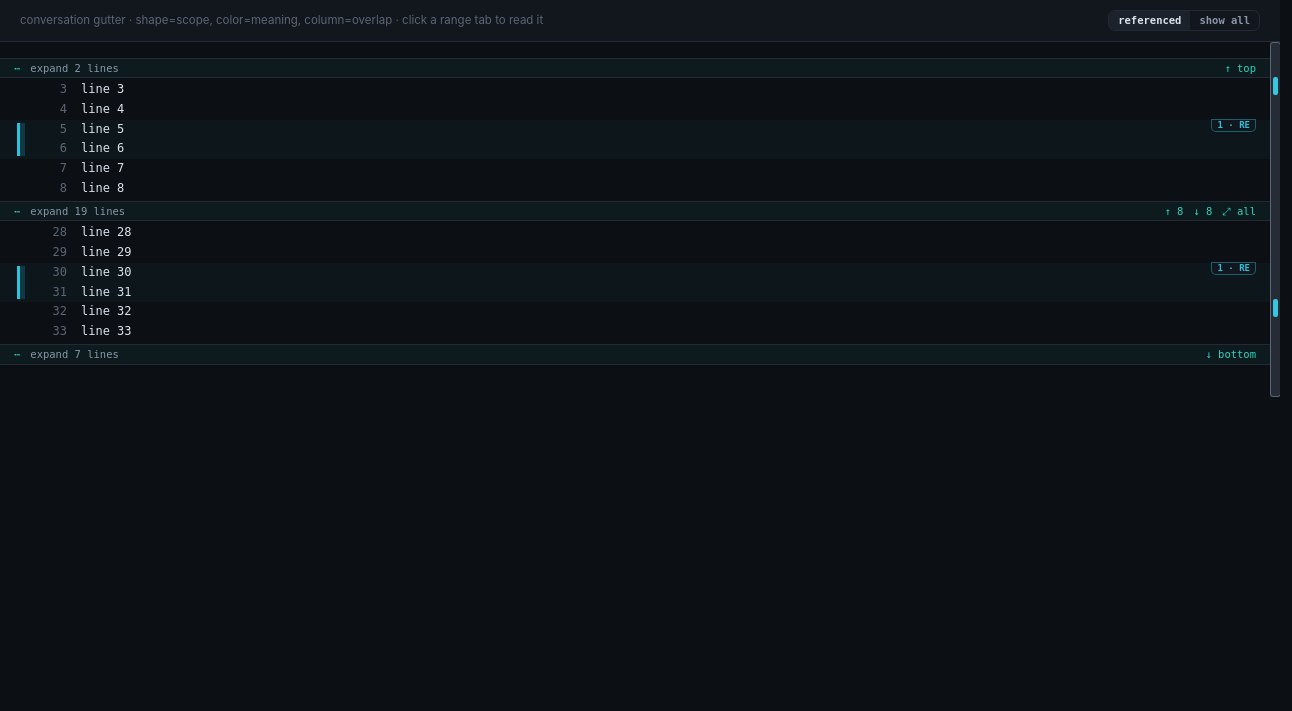
Test: CodeLens — piece 11 Phase 3: PR-style collapse › "show all" reveals every real line and hides every fold row; "referenced" re-collapses
Check: the number of elements with test id "fold-row" is 3, box [0,58,1270,78]; [0,201,1270,221]; [0,344,1270,365]
Click the button with test id "collapse-toggle-showall": click(1225, 20) [1190,11,1259,30]
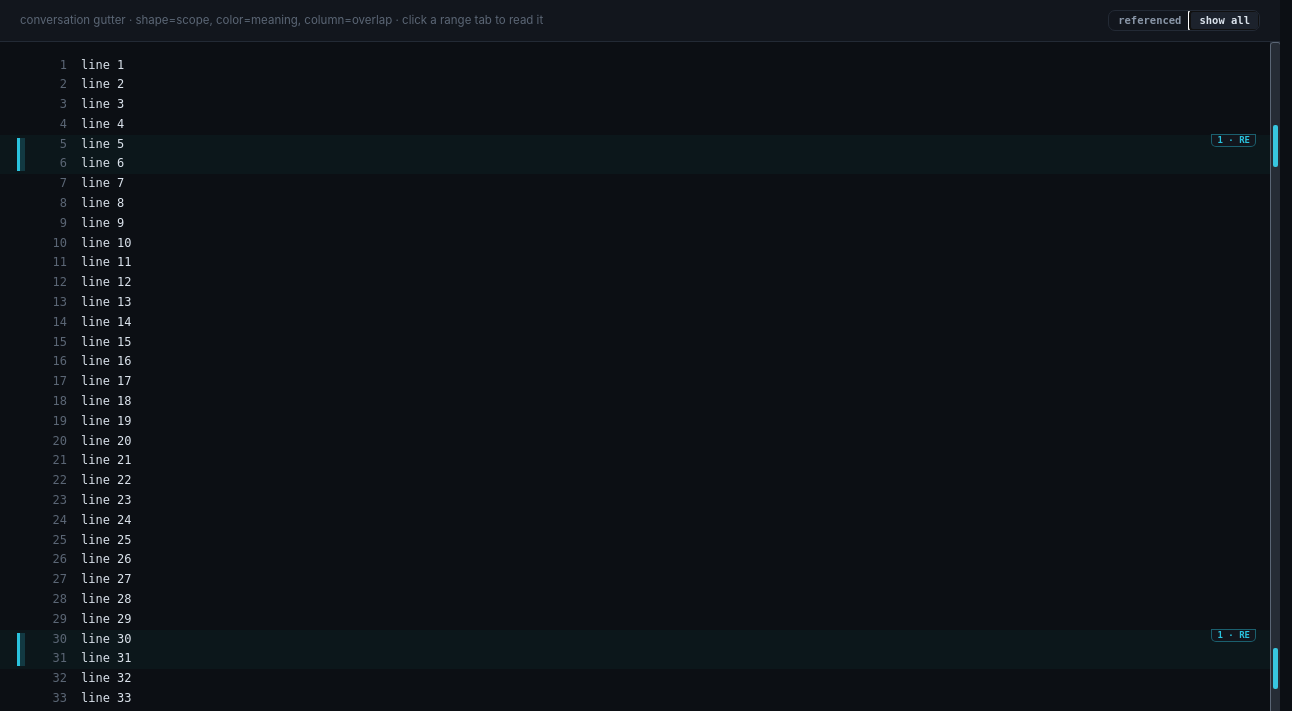
Check: no elements with test id "fold-row" are shown
Click the button with test id "collapse-toggle-referenced": click(1150, 20) [1109,11,1190,30]
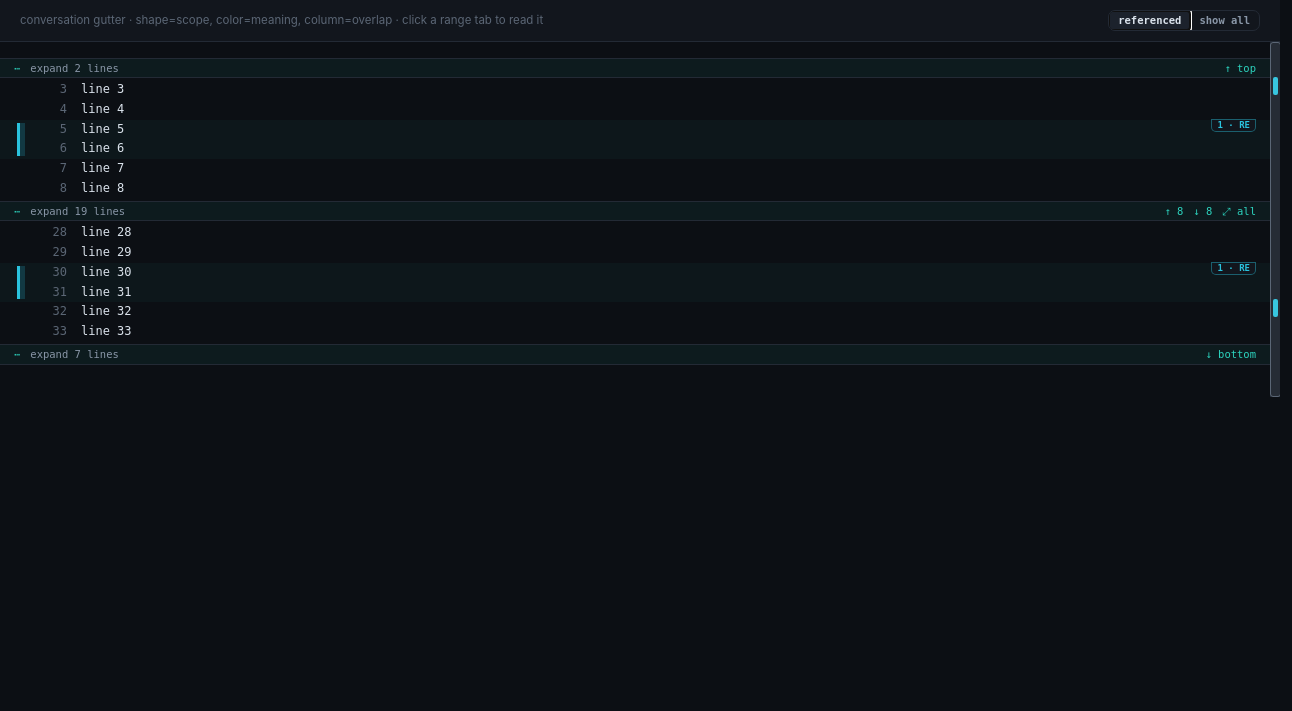
Check: the number of elements with test id "fold-row" is 3, box [0,58,1270,78]; [0,201,1270,221]; [0,344,1270,365]
